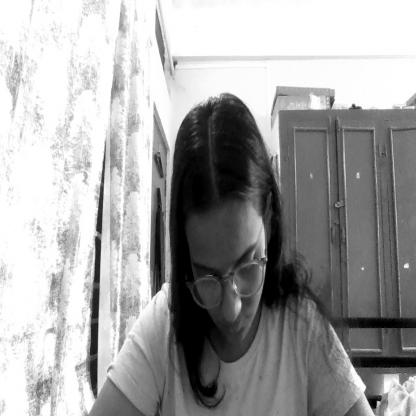Distracted: (173, 112, 274, 356)
